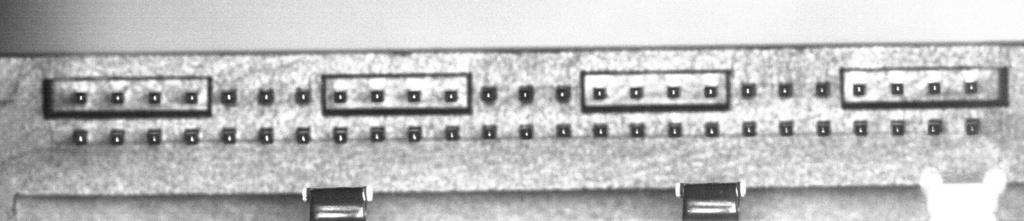pin_ok: (480, 85, 498, 103), (71, 128, 88, 145), (555, 85, 572, 102), (517, 85, 534, 102), (965, 117, 981, 135), (183, 128, 200, 144), (295, 127, 311, 144), (927, 118, 943, 135), (853, 119, 869, 136), (257, 88, 274, 104), (220, 88, 237, 104), (258, 127, 274, 143), (815, 81, 831, 97), (890, 119, 906, 135), (777, 82, 793, 98), (332, 127, 348, 143), (816, 120, 832, 136), (444, 125, 460, 141), (109, 129, 125, 145), (294, 87, 310, 103), (629, 122, 645, 138), (704, 121, 720, 137), (741, 82, 756, 98), (146, 128, 161, 144), (779, 120, 794, 136), (481, 124, 497, 139), (667, 122, 683, 137), (407, 126, 422, 142), (221, 128, 236, 144), (592, 123, 609, 137), (370, 126, 385, 141), (518, 124, 533, 139), (743, 120, 757, 136), (556, 123, 572, 137), (444, 89, 459, 103), (184, 90, 199, 104), (592, 86, 606, 100), (965, 80, 979, 94), (666, 85, 681, 98), (703, 85, 718, 98), (370, 89, 384, 102), (407, 89, 421, 102), (629, 86, 643, 99), (333, 90, 347, 103), (147, 91, 161, 104), (110, 91, 124, 104), (852, 83, 866, 96), (890, 82, 904, 95), (73, 91, 87, 104), (928, 81, 941, 94)
